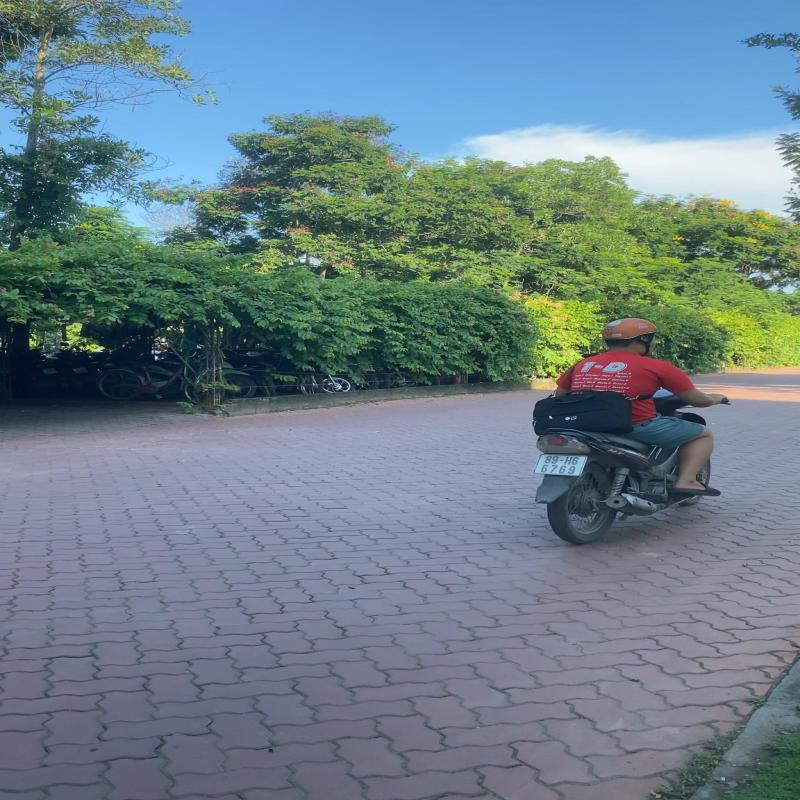helmet: (599, 316, 665, 351)
licenseplate: (534, 452, 590, 476)
motorcyclist: (528, 315, 739, 546)
